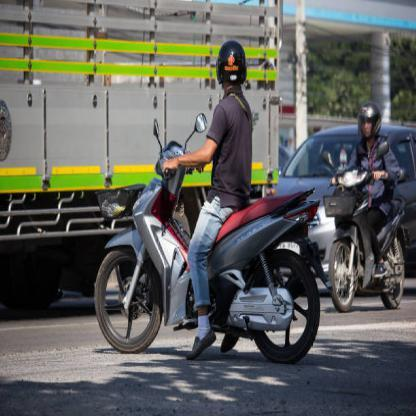Motorcycle: (96, 114, 328, 373), (321, 136, 409, 319)
